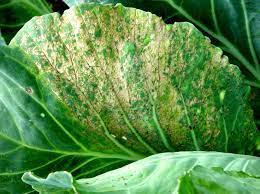Bok-Choy-Diseased: (2, 4, 260, 169)
